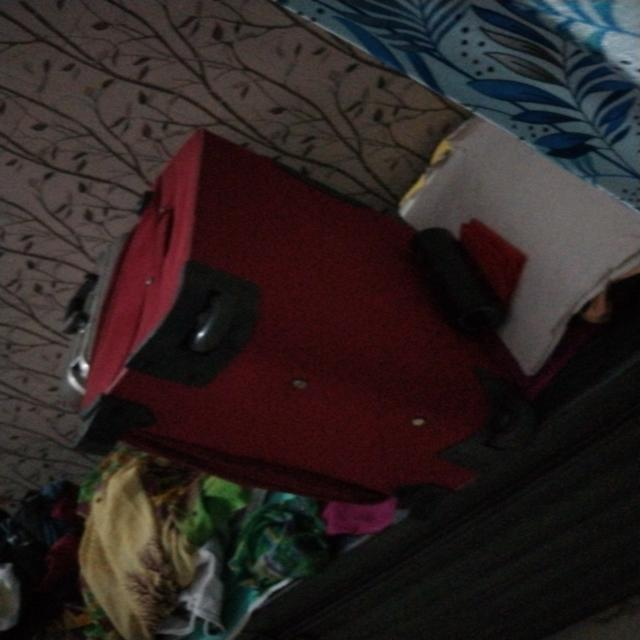suitcaserotation: (59, 123, 546, 526)
